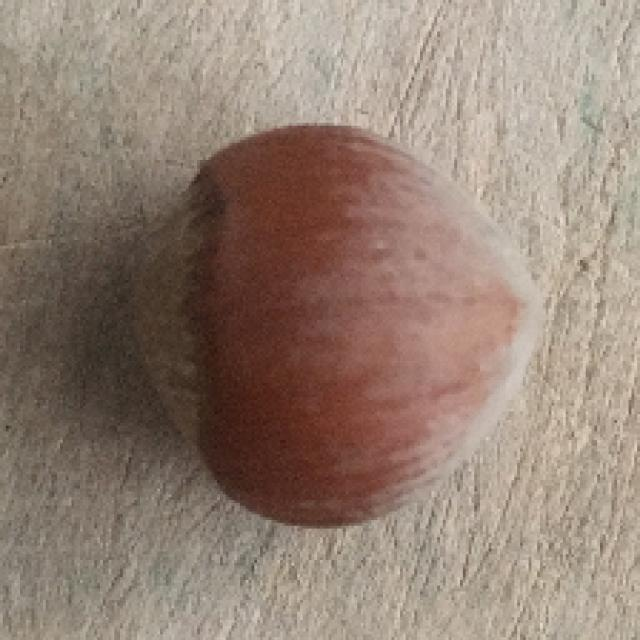QualityHazelnut: (132, 119, 555, 531)
